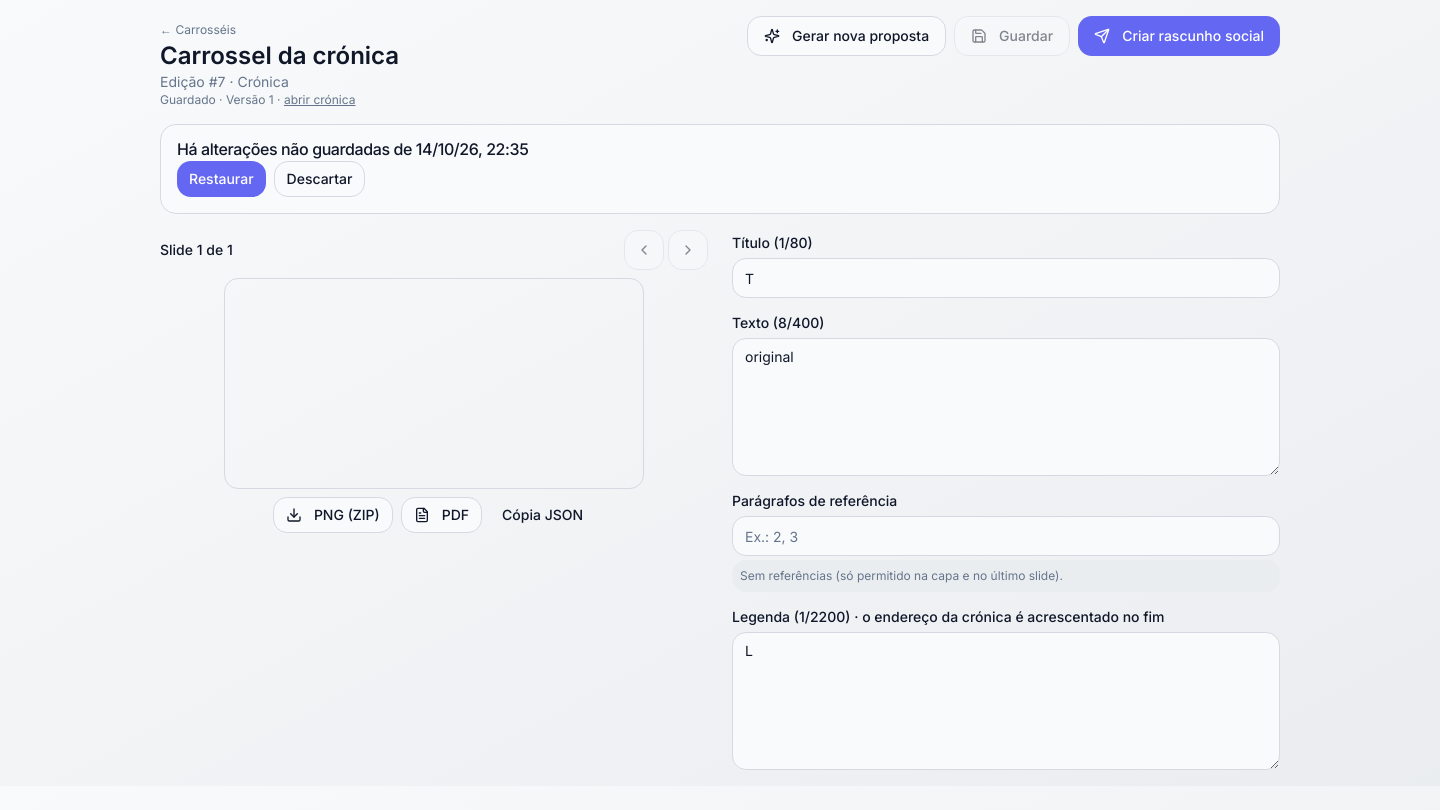
Test: Carrossel — gravação e refetch › a primeira abertura não apaga a cópia local: oferece Restaurar e repõe o texto
The width and height of the screenshot is (1440, 810).
Click the button "Restaurar" at (221, 179), box [177,161,266,197]
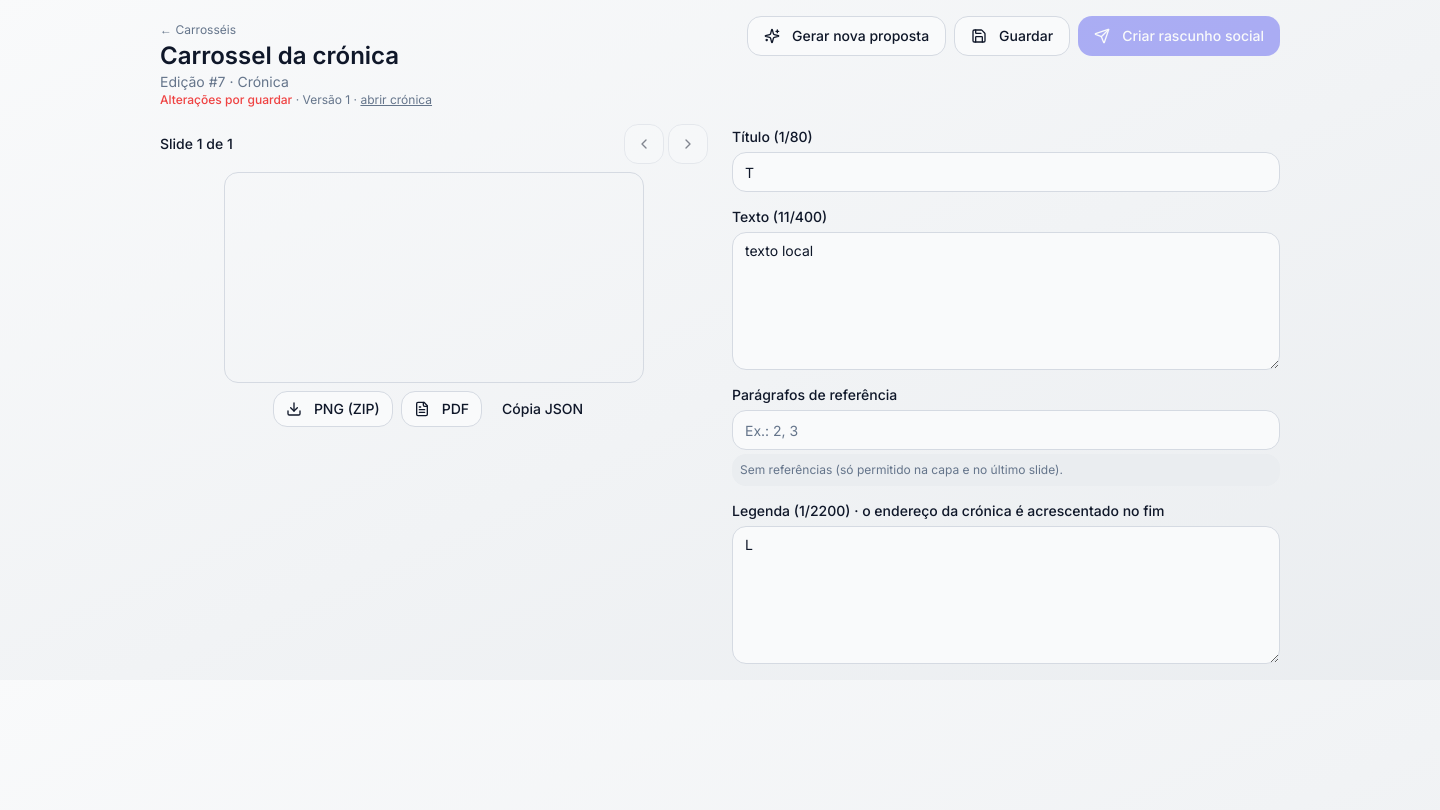
Expected: the text box labelled "Texto (11/400)" holds "texto local", [732,232,1280,370]
